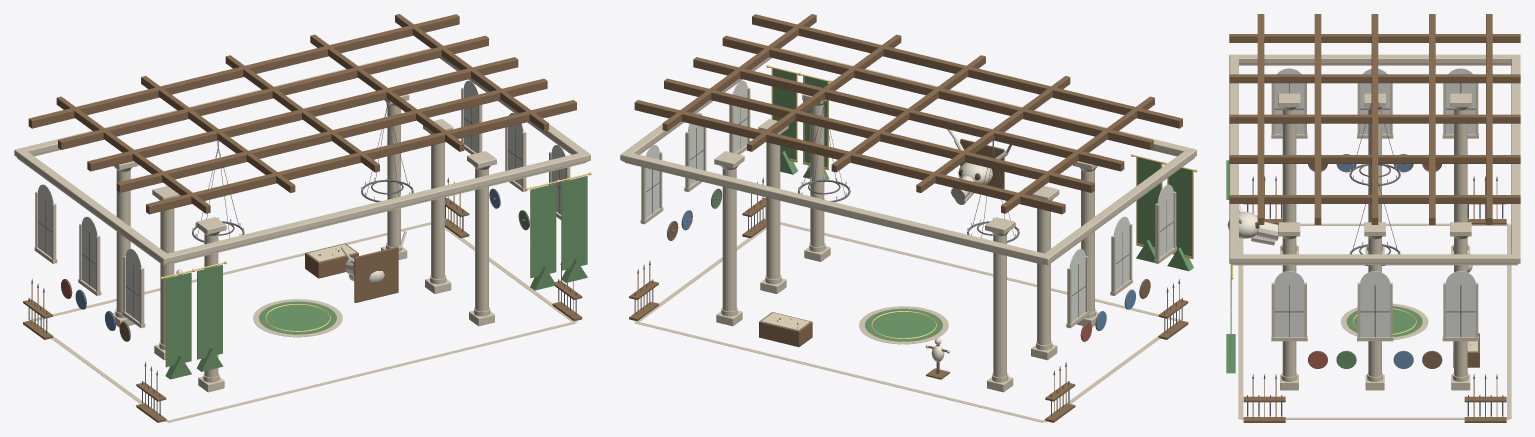
File: guild_adventurers.glb
3 renders of one model, left to right at view 1: azimuth 30°, elevation 25°; view 2: azimuth 150°, elevation 25°; view 3: azimuth 270°, elevation 25°, orthographic. The views are drawn at different scales.
Parts seen in each view (by area): view 1: guild_adventurers; view 2: guild_adventurers; view 3: guild_adventurers.
Part boxes in pixels (bbox=[...]): guild_adventurers: bbox=[14, 14, 591, 422]; guild_adventurers: bbox=[620, 14, 1197, 422]; guild_adventurers: bbox=[1226, 14, 1520, 422].
Bounding box in the file's own units: 25.46 × 11.96 × 15.47.
